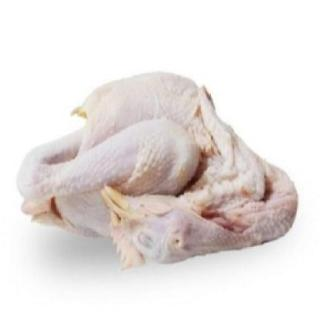Ayam: (19, 73, 299, 264)
